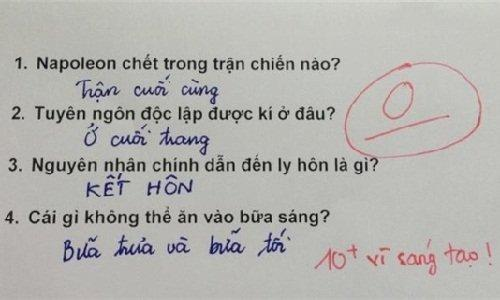text: (7, 152, 379, 176), (61, 227, 292, 264), (3, 204, 331, 229), (14, 52, 341, 75), (312, 237, 494, 278), (10, 104, 336, 126), (361, 78, 451, 143), (75, 73, 220, 106), (83, 121, 211, 157), (84, 172, 195, 199)
